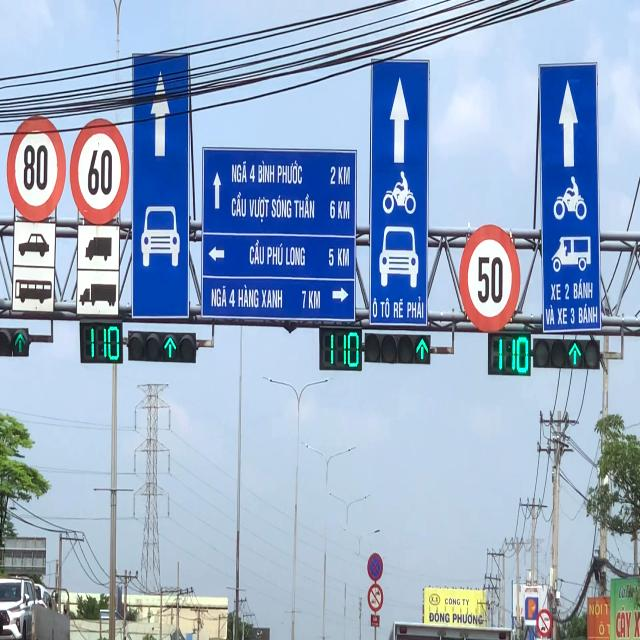P.127: (459, 225, 521, 334), (6, 113, 66, 219), (70, 114, 128, 222)
P.130: (366, 552, 384, 582)
